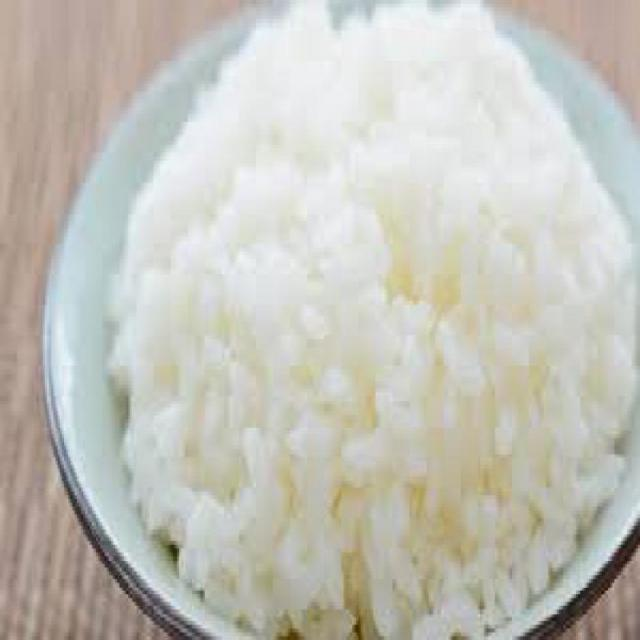rice: (111, 3, 639, 639)
